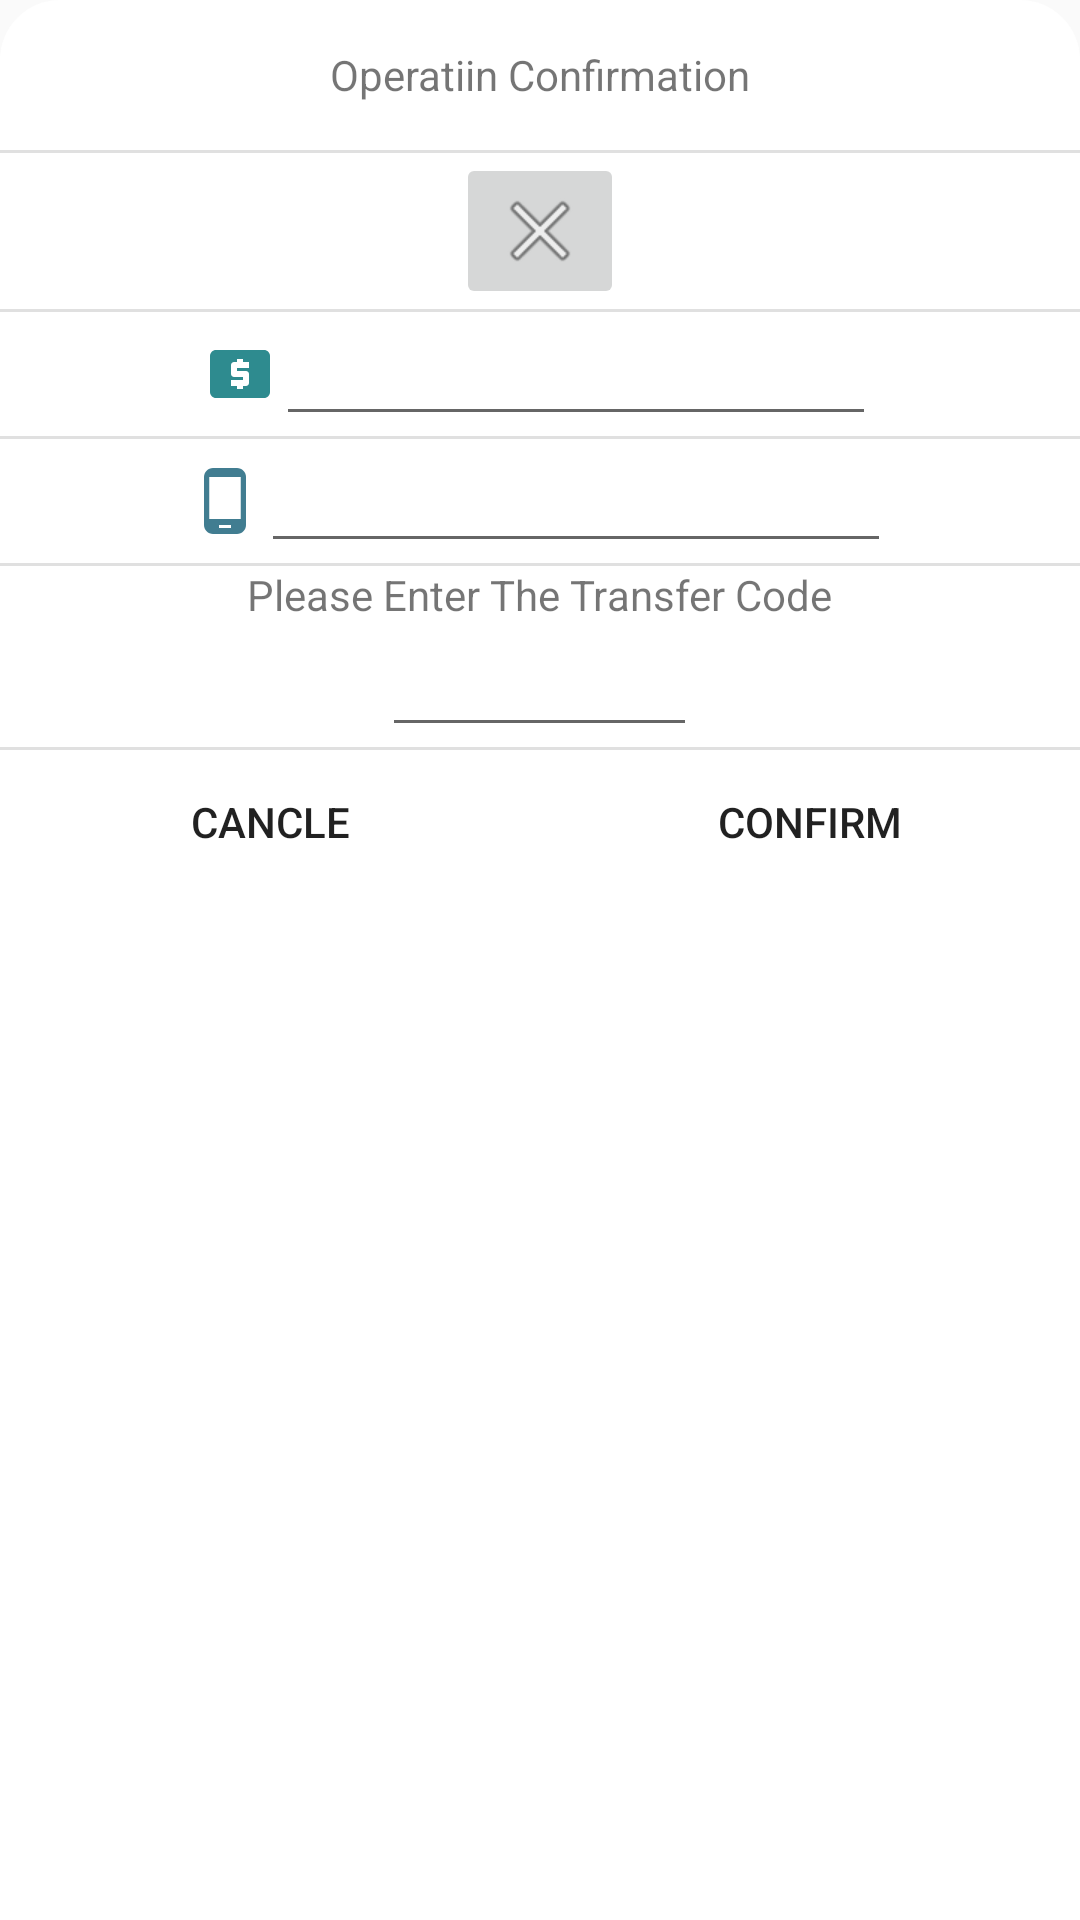

Point at icon controls on the screen. Image size 1080 × 1920, points as [x,y].
cash usd: [240,374]
cellphone: [225,501]
close clear cancel: [540,231]
